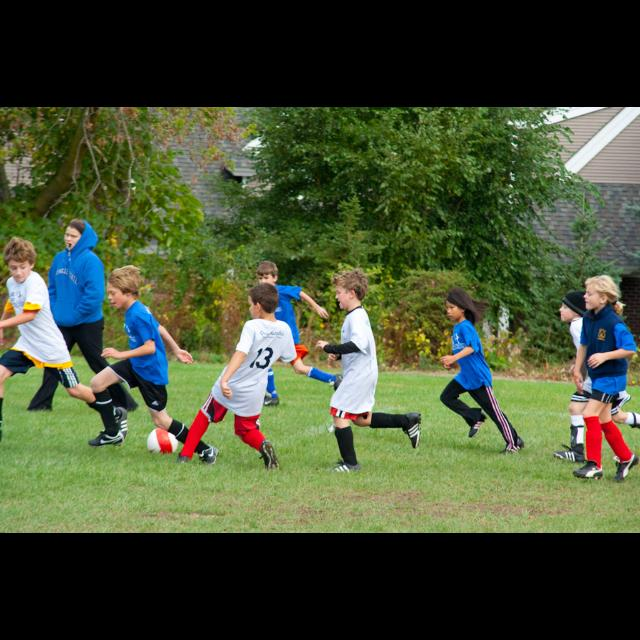Football: (145, 426, 177, 454)
